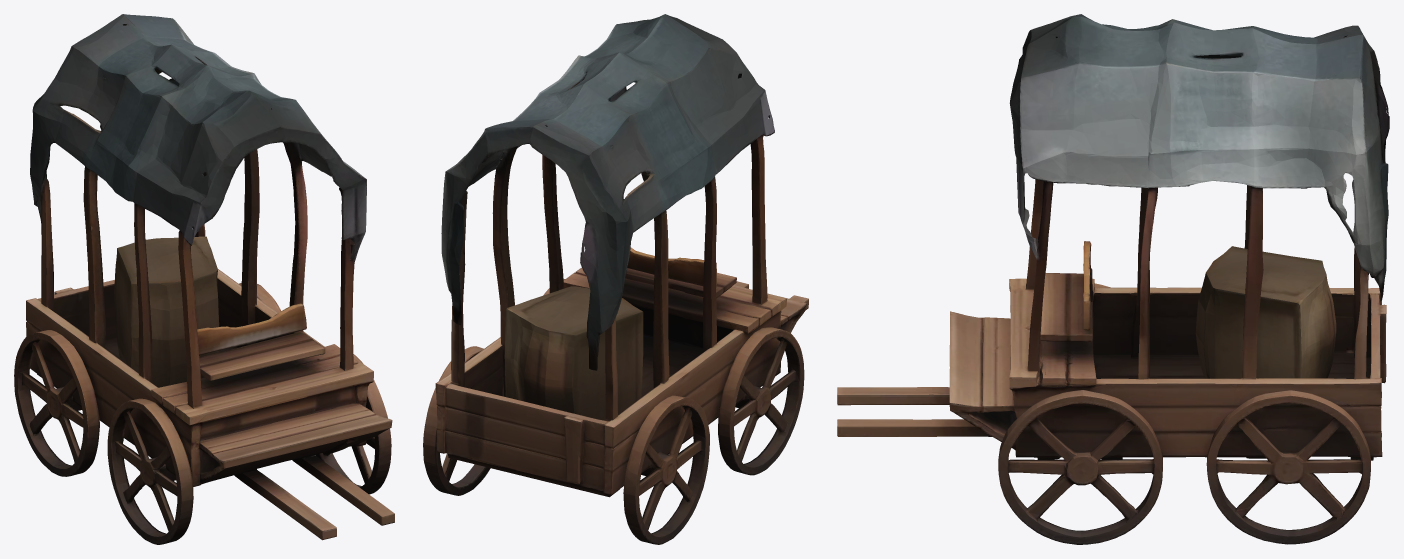
File: nano_t03.glb
3 renders of one model, left to right at view 1: azimuth 30°, elevation 25°; view 2: azimuth 150°, elevation 25°; view 3: azimuth 270°, elevation 25°, orthographic. The views are drawn at different scales.
Visible parts, largest first — view 1: geometry_0; view 2: geometry_0; view 3: geometry_0.
Part boxes in pixels (x1,y1,x2,y2): geometry_0: (14, 14, 394, 544); geometry_0: (423, 14, 808, 544); geometry_0: (837, 14, 1389, 544).
Size of the model in its own units: 0.9663 by 1.86 by 1.97.
1 material, 1 textured.
